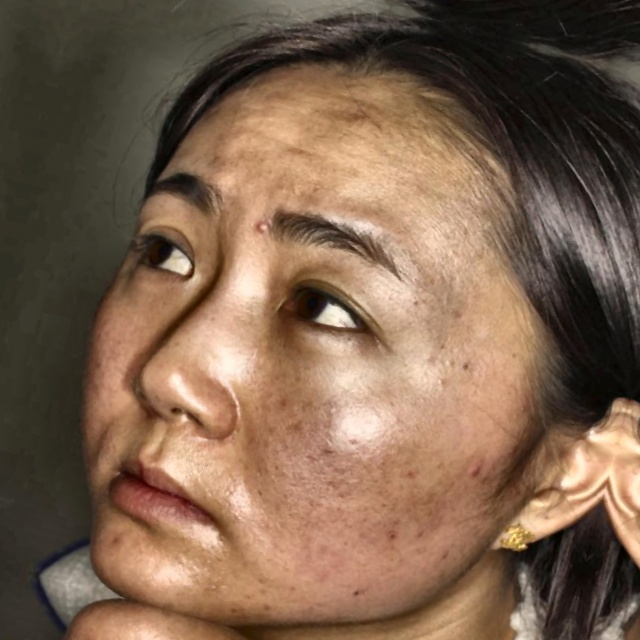comedone: (456, 452, 511, 487), (244, 212, 282, 245)
